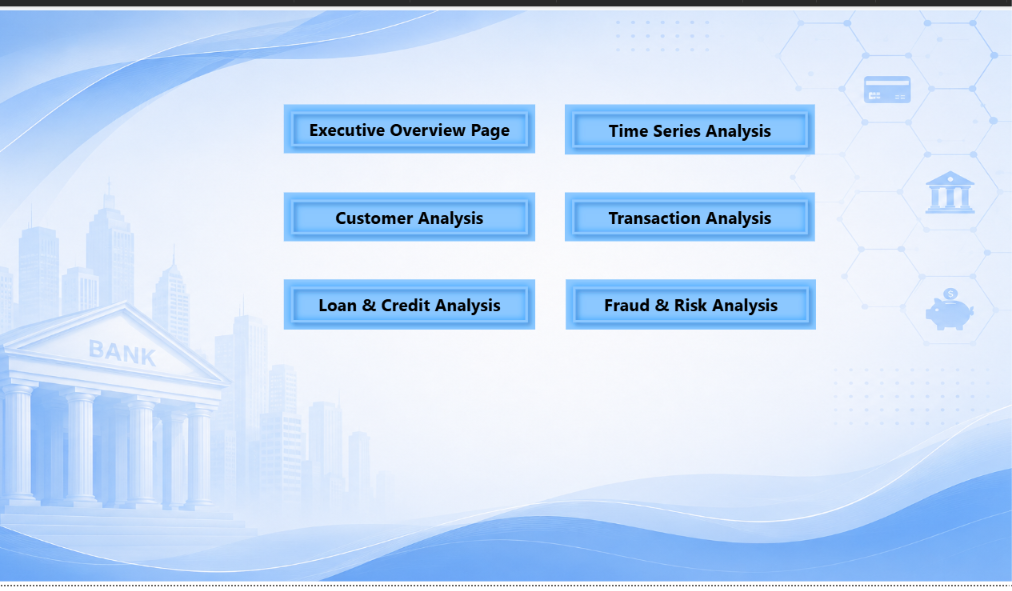

This screenshot's page, from the dashboard's own definition file:
{"tool":"powerbi","page":{"name":"Home Page","canvas":[1280,720],"ordinal":0},"visuals":[{"type":"image","box":[9.6,0,1270.7,720.4],"z":0}]}

Visuals, with their boxes on the page's 1280x720 design canvas (x1, y1, x2, y2). These are canvas units, not pixel positions in the 1012x591 screenshot, which may show the page scaled, cropped or inside an application window:
image: [left=10, top=0, right=1280, bottom=720]
